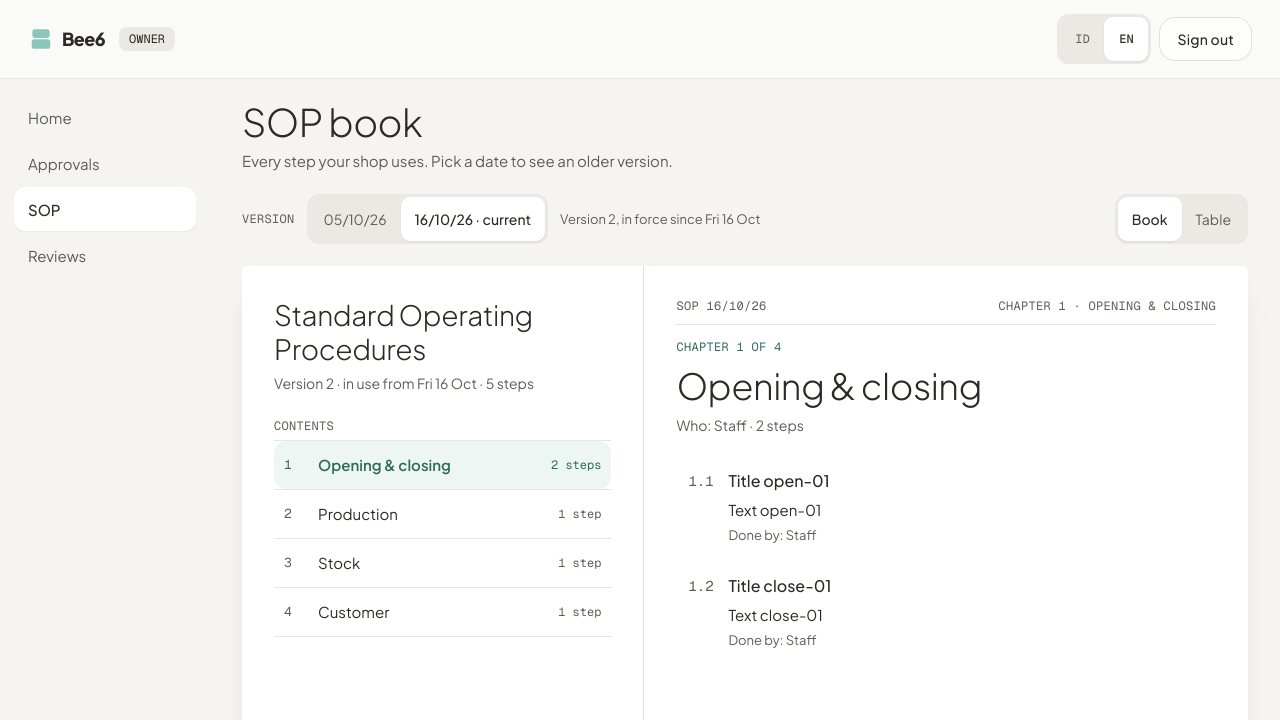
it: SopApp Book/Table toggle (R-19 PR-9b §9.1) › Table shows the six-column table with the improved step's origin and hides the spread; Book brings it back
Expected: the element named "View" is shown, [1115, 194, 1248, 244]
Step 1. Click the button "Table" → (1213, 219), box [1182, 197, 1245, 241]
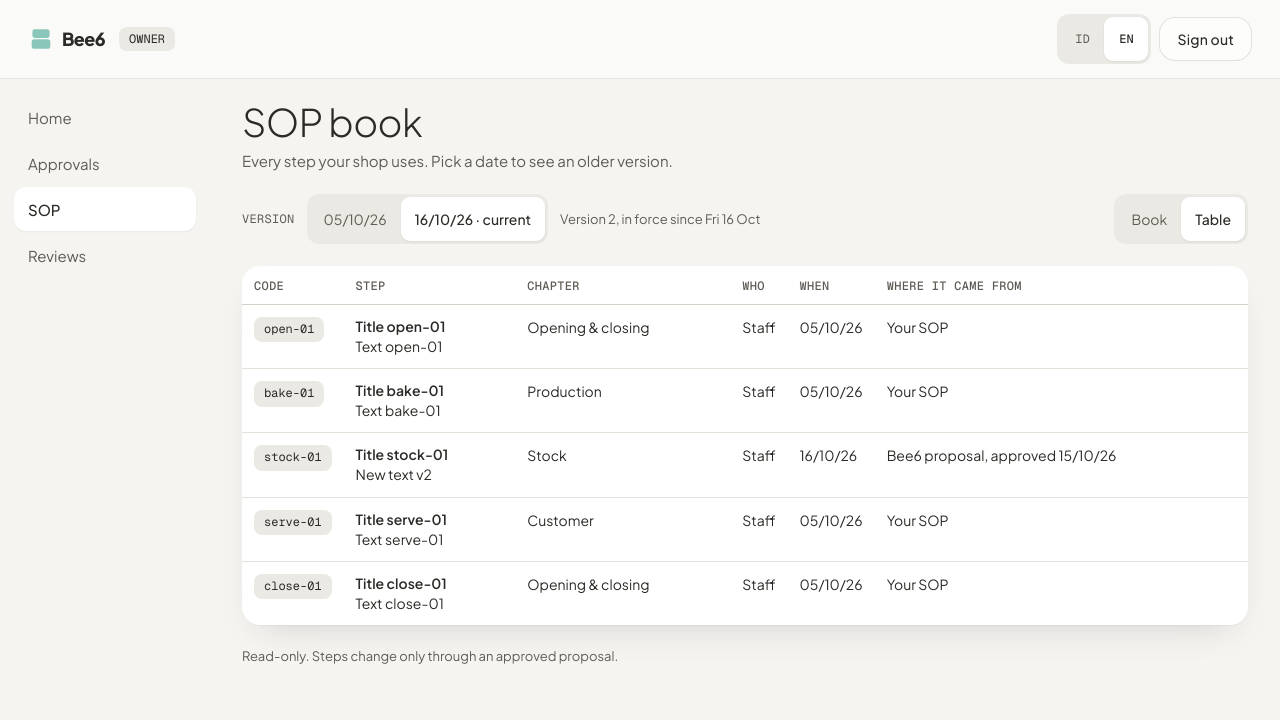
Now the column headings read "CODE", "STEP", "CHAPTER", "WHO", "WHEN", "WHERE IT CAME FROM", in this order, box [242, 266, 344, 304]; [344, 266, 515, 304]; [515, 266, 730, 304]; [730, 266, 788, 304]; [788, 266, 875, 304]; [875, 266, 1248, 304]
Now the cell "Your SOP" in the row of "Title open-01" is shown, box [887, 318, 949, 336]
Now the text "Contents" is gone
Step 2. Click the button "Book" → (1149, 219), box [1118, 197, 1181, 241]
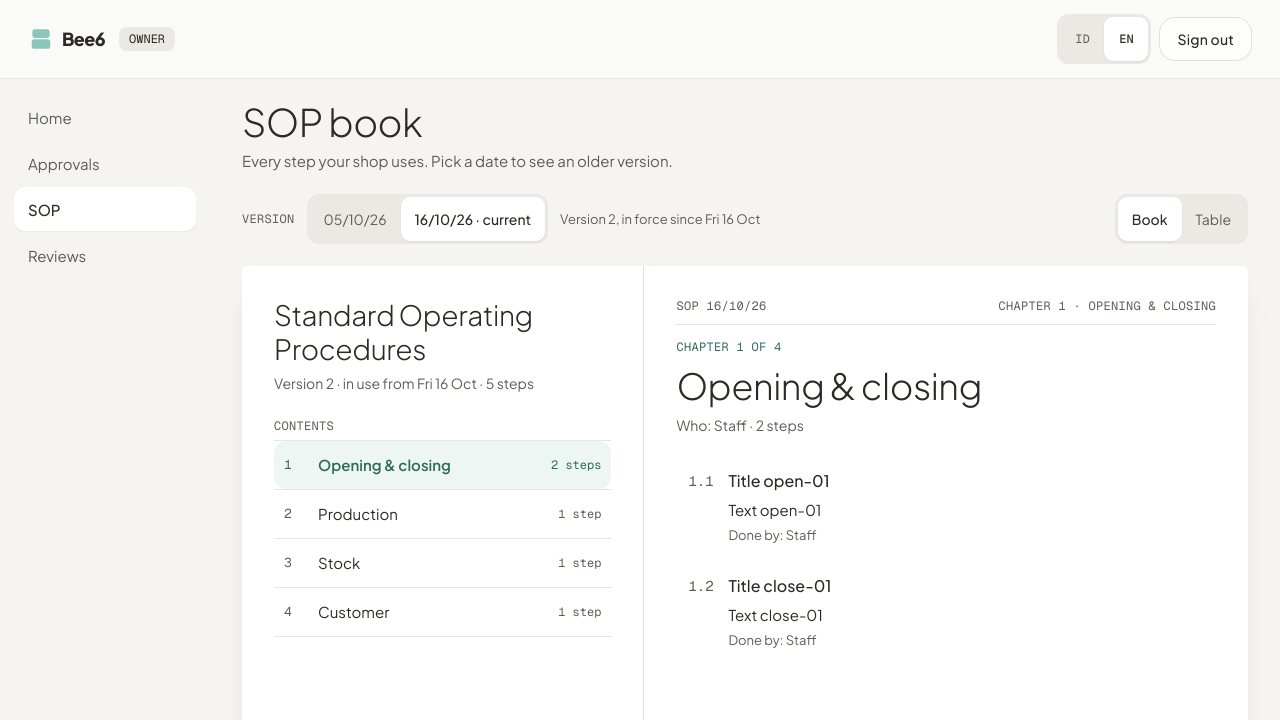
Now the navigation bar "Contents" is shown, box [274, 418, 611, 652]
Now the table is gone
